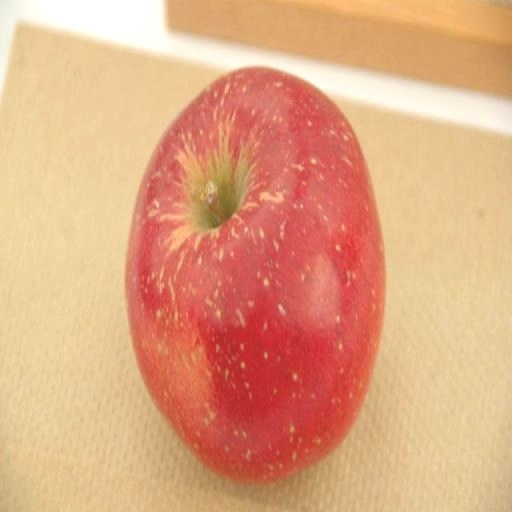fruit: (126, 68, 384, 482)
